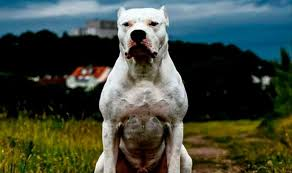dog: (90, 3, 200, 172)
